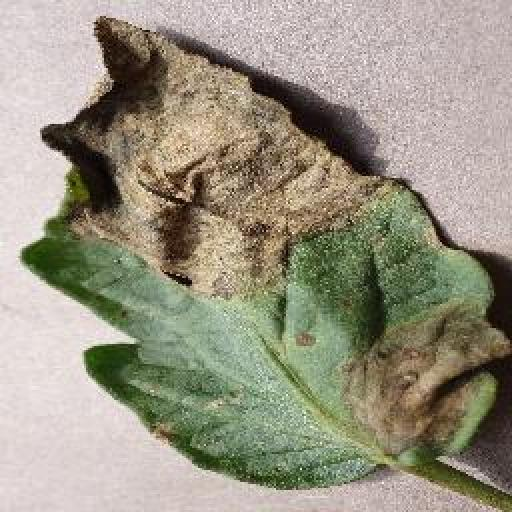disease_tomato: (20, 12, 512, 491)
